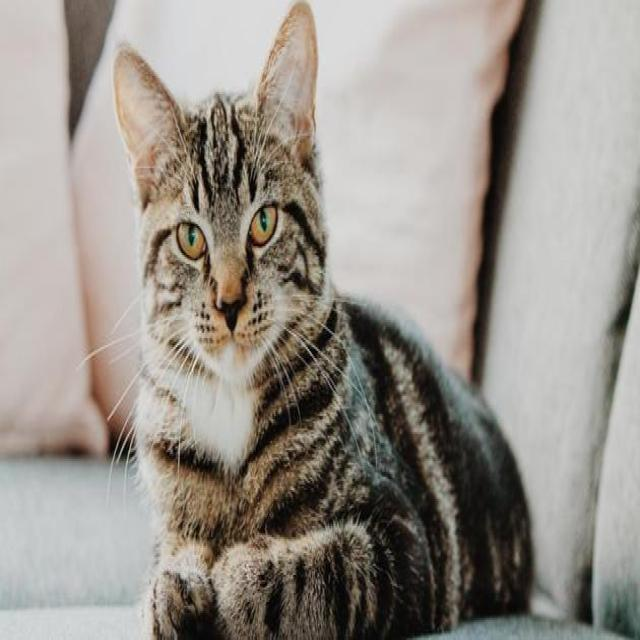Cat: (103, 4, 340, 386)
